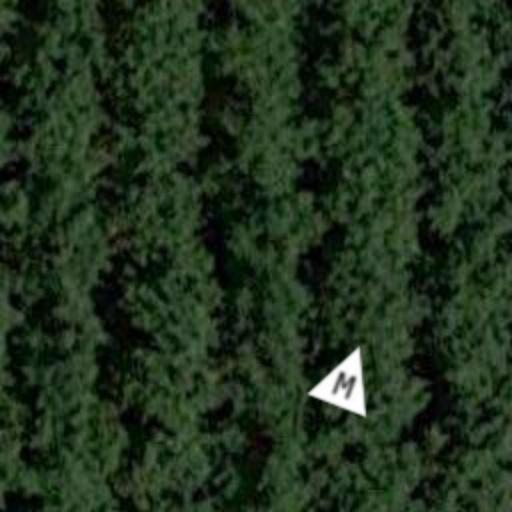triangle: (306, 334, 390, 418)
